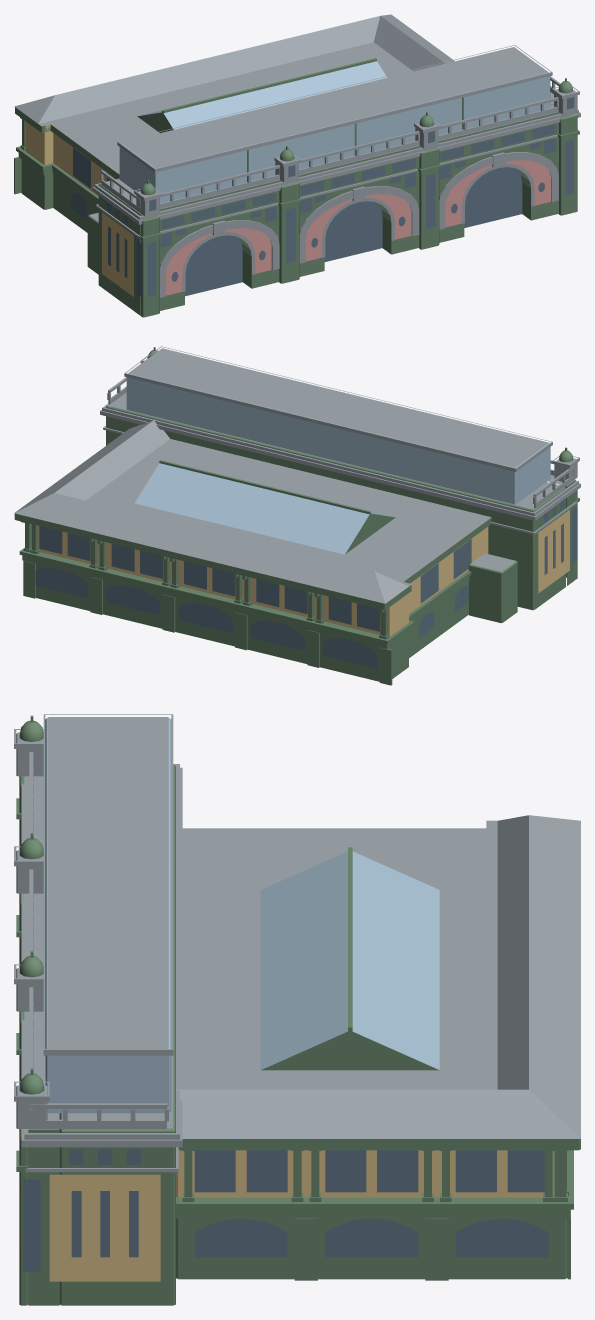
File: nyc-battery-maritime-building.glb
The picture shows the model from 3 angles, top to bottom: view 1: azimuth 30°, elevation 25°; view 2: azimuth 150°, elevation 25°; view 3: azimuth 270°, elevation 25°; orthographic projection. The views are drawn at different scales.
Visible parts, largest first — view 1: Battery Maritime Building; view 2: Battery Maritime Building; view 3: Battery Maritime Building.
Boxes of the visible parts, <box> form: Battery Maritime Building: <box>14,14,580,317</box>; Battery Maritime Building: <box>14,346,580,685</box>; Battery Maritime Building: <box>14,714,580,1305</box>.
Size of the model in its own units: 98.7 by 29.6 by 63.4.
